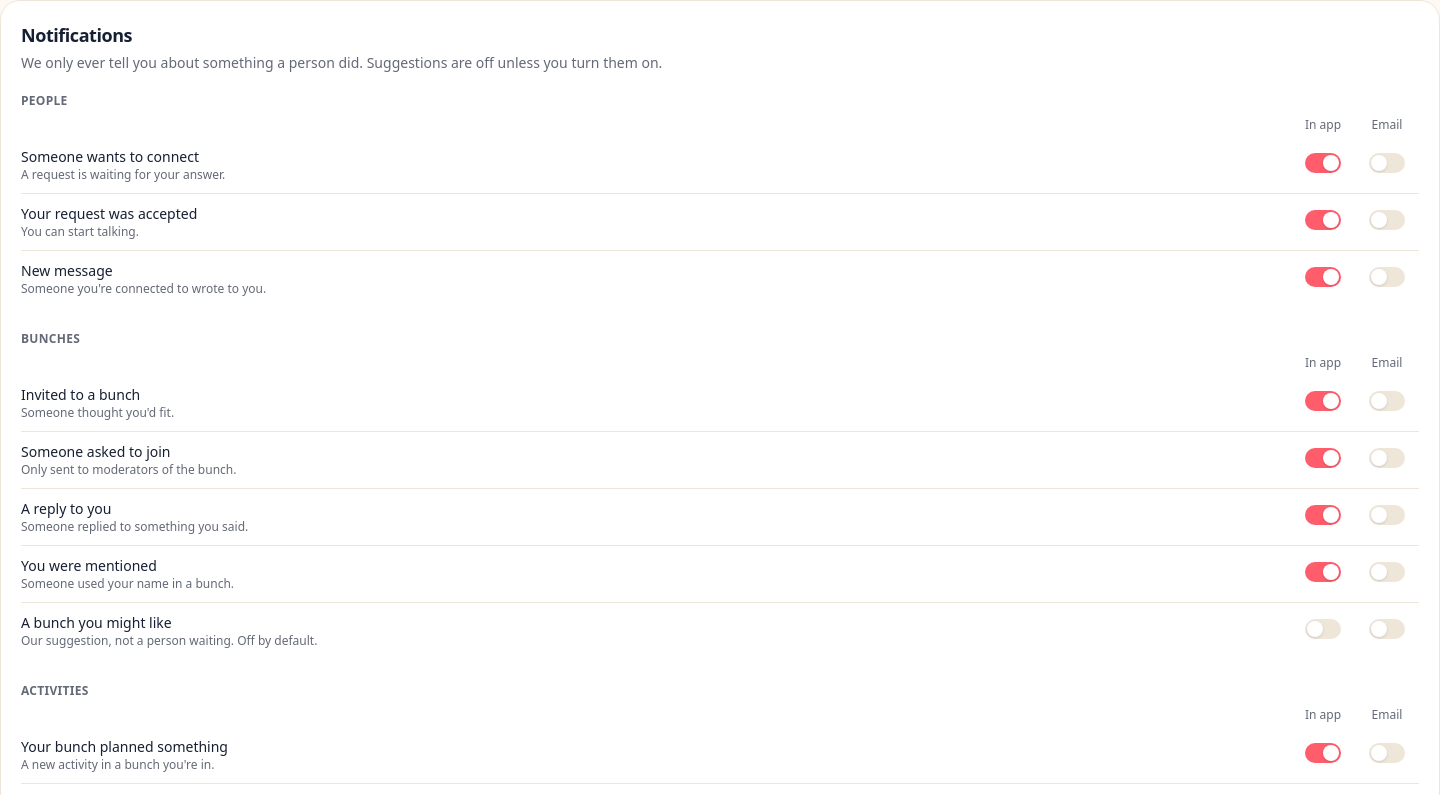
Test case: notification preferences › puts the switch back when the save fails
Click the switch named "Someone wants to connect, in app": (1323,162) top-left (1305, 152), bottom-right (1341, 172)
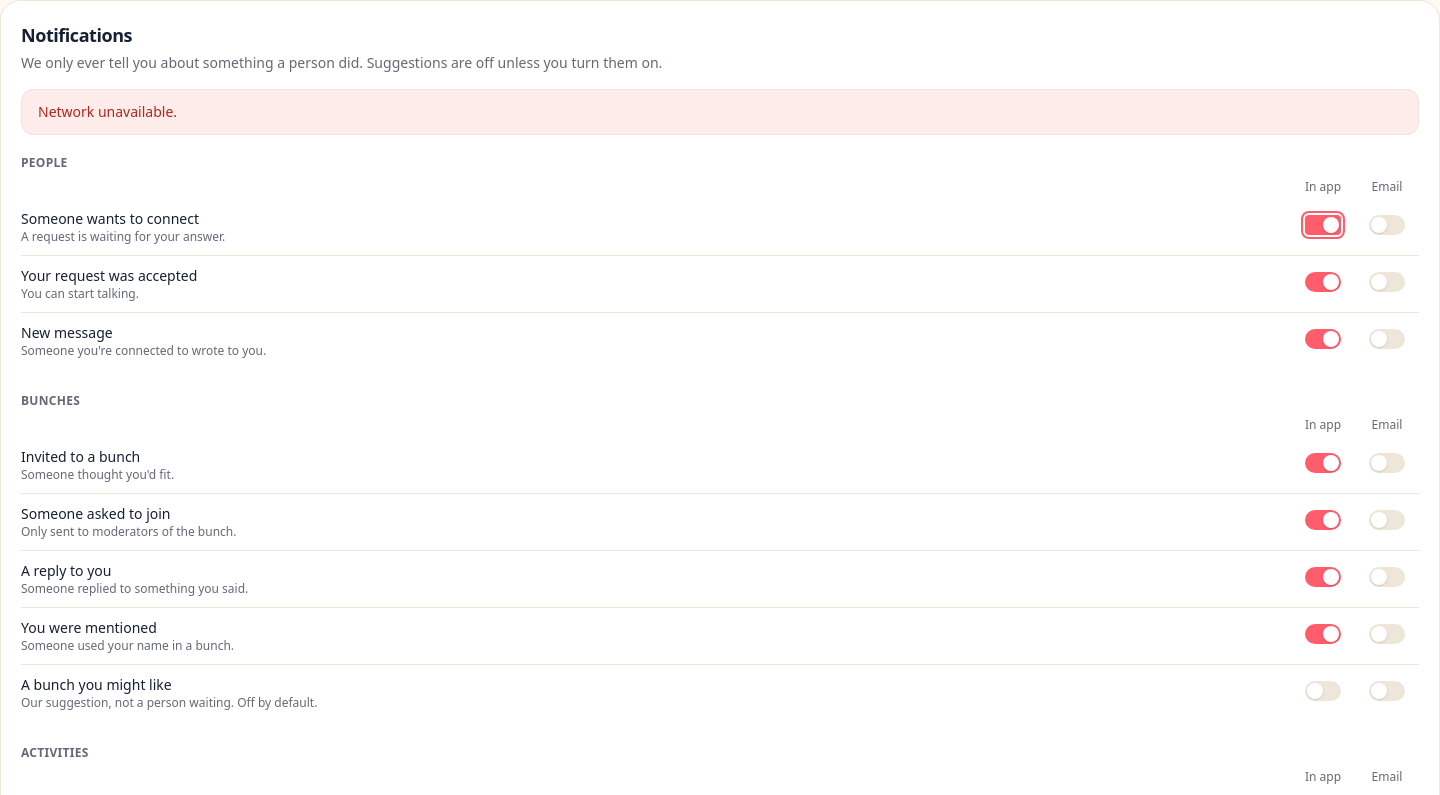
Check: the message reads "Network unavailable.", box top-left (38, 102), bottom-right (177, 121)
